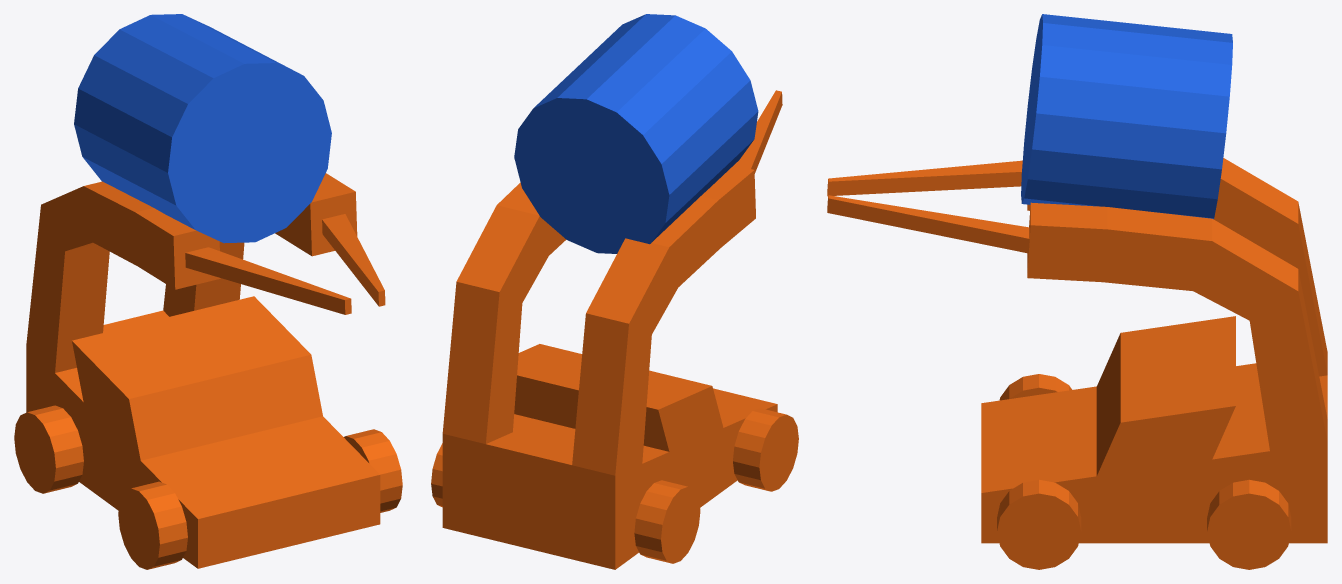
File: _mmo Car.fbx
The picture shows the model from 3 angles, left to right: view 1: azimuth 30°, elevation 25°; view 2: azimuth 150°, elevation 25°; view 3: azimuth 270°, elevation 25°; orthographic projection. The views are drawn at different scales.
Parts seen in each view (by area): view 1: Cube; view 2: Cube; view 3: Cube.
Boxes of the visible parts, left/top/right/bottom form: Cube: left=14, top=14, right=402, bottom=569; Cube: left=431, top=14, right=798, bottom=569; Cube: left=827, top=14, right=1327, bottom=569.
Bounding box in the file's own units: 164 × 306 × 289.
